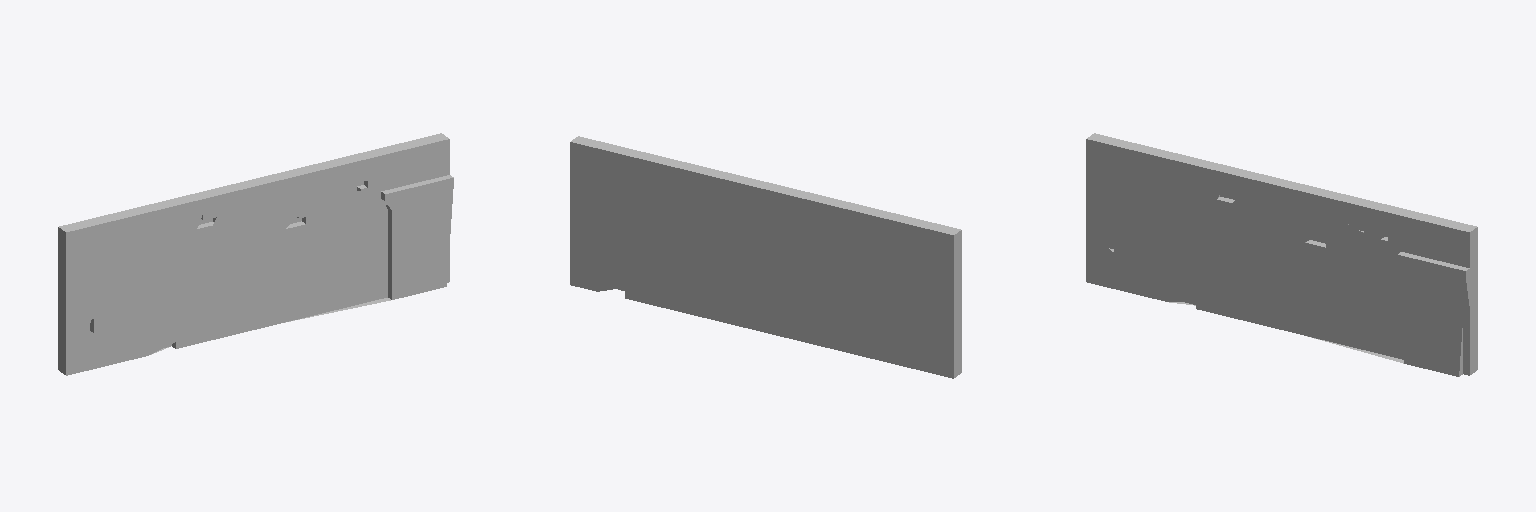
Rendered from Wall.obj.
The picture shows the model from 3 angles: view 1: azimuth 30°, elevation 25°; view 2: azimuth 150°, elevation 25°; view 3: azimuth 330°, elevation 25°; orthographic projection.
Parts seen in each view (by area): view 1: Untitled; view 2: Untitled; view 3: Untitled.
Boxes of the visible parts, x1=… form: Untitled: x1=58, y1=133, x2=453, y2=375; Untitled: x1=570, y1=136, x2=961, y2=378; Untitled: x1=1086, y1=133, x2=1477, y2=376.
Size of the model in its own units: 5.6 by 2 by 0.3.